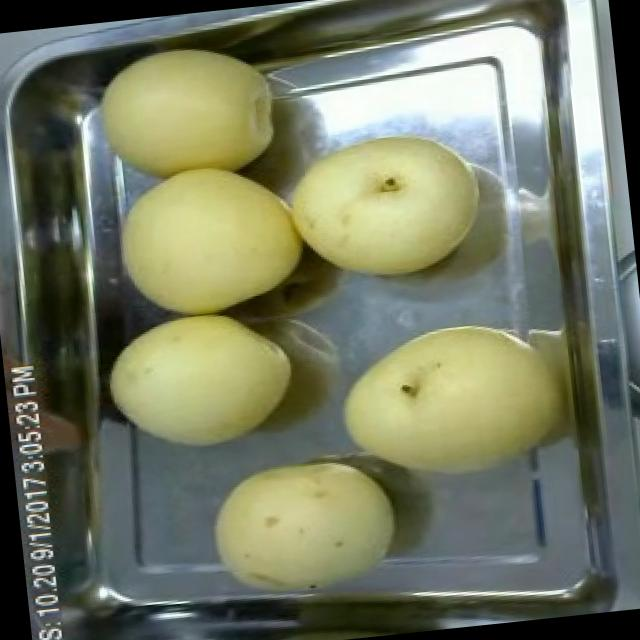Fruit: (324, 301, 578, 503), (190, 434, 416, 620), (96, 143, 318, 330), (276, 116, 496, 296), (80, 25, 292, 197), (98, 298, 308, 464)
